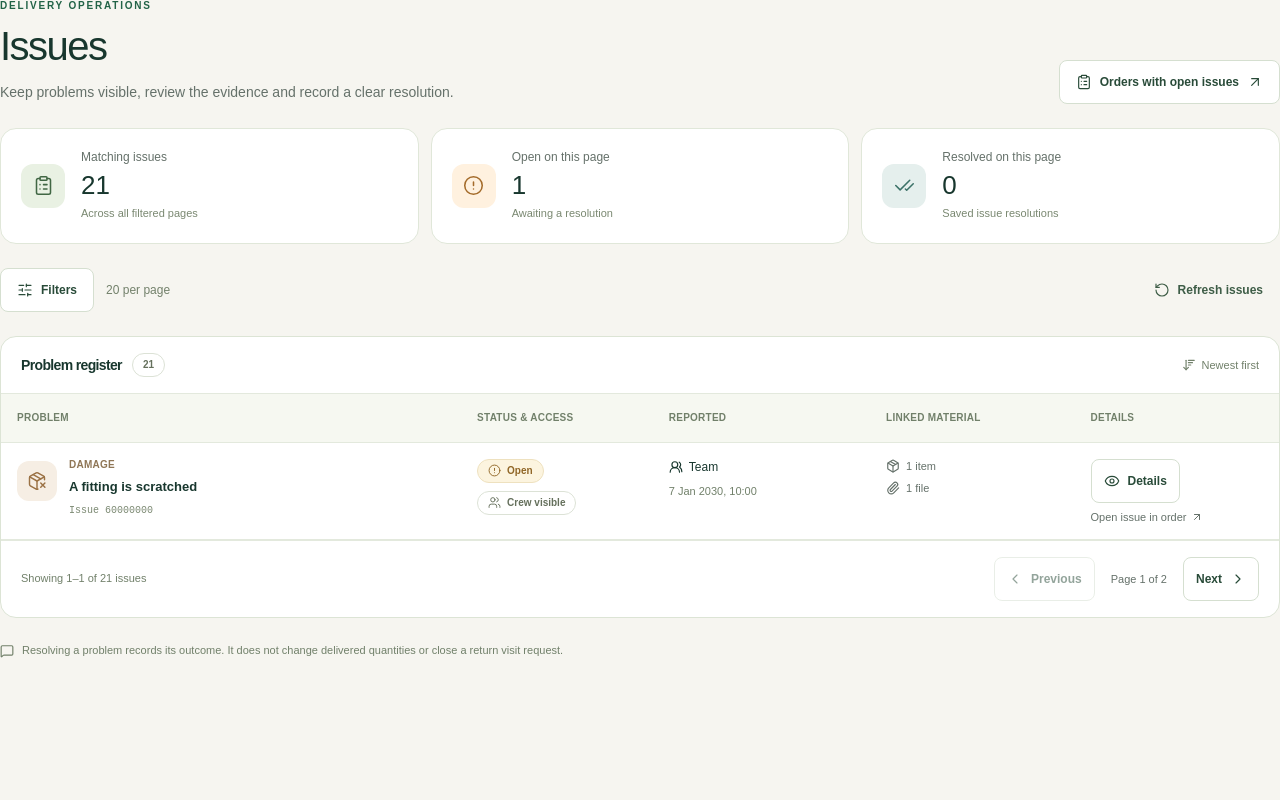
Test case: Backoffice issue directory › opens canonical details only on demand and restores focus on close
The image size is (1280, 800).
Click the button "A fitting is scratched" at coordinates (133, 486), box [69, 476, 197, 497]
(page scrolled)
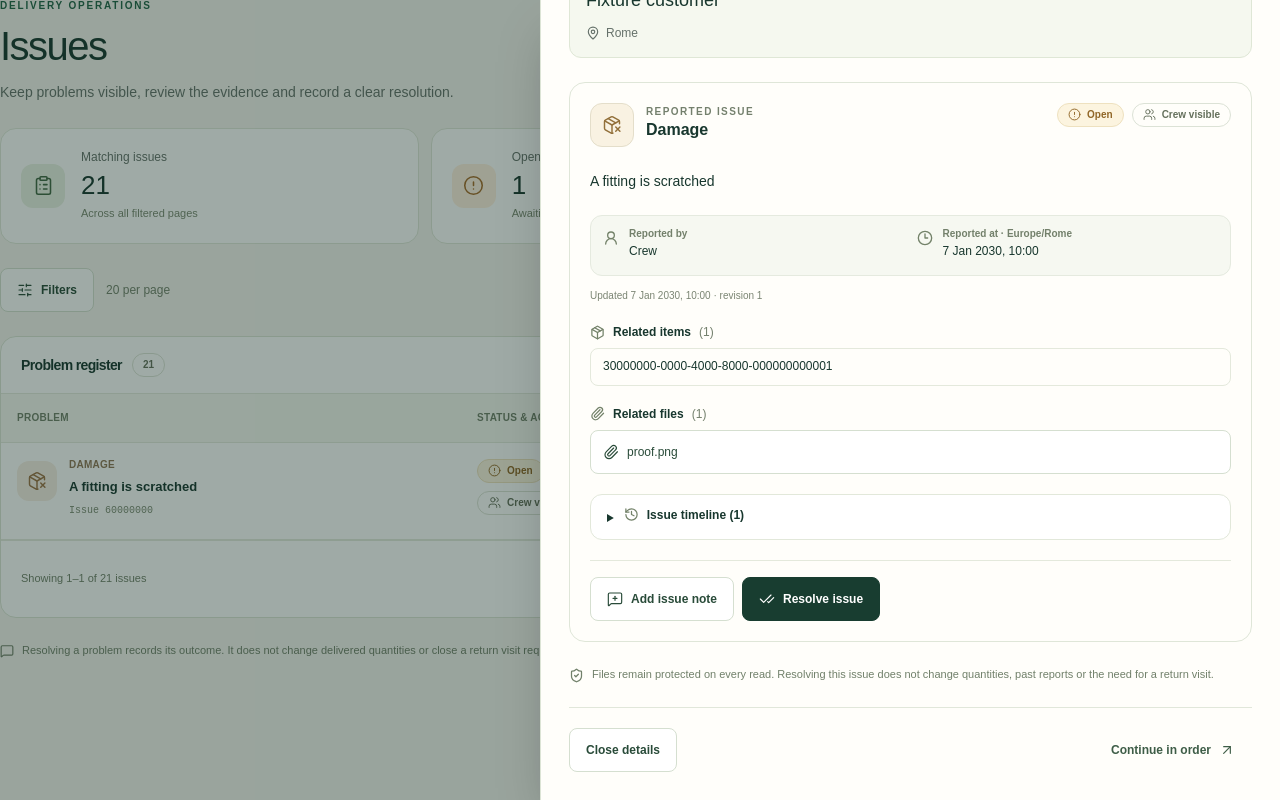
Click the button "Close details" at coordinates (623, 750), box [569, 728, 677, 772]
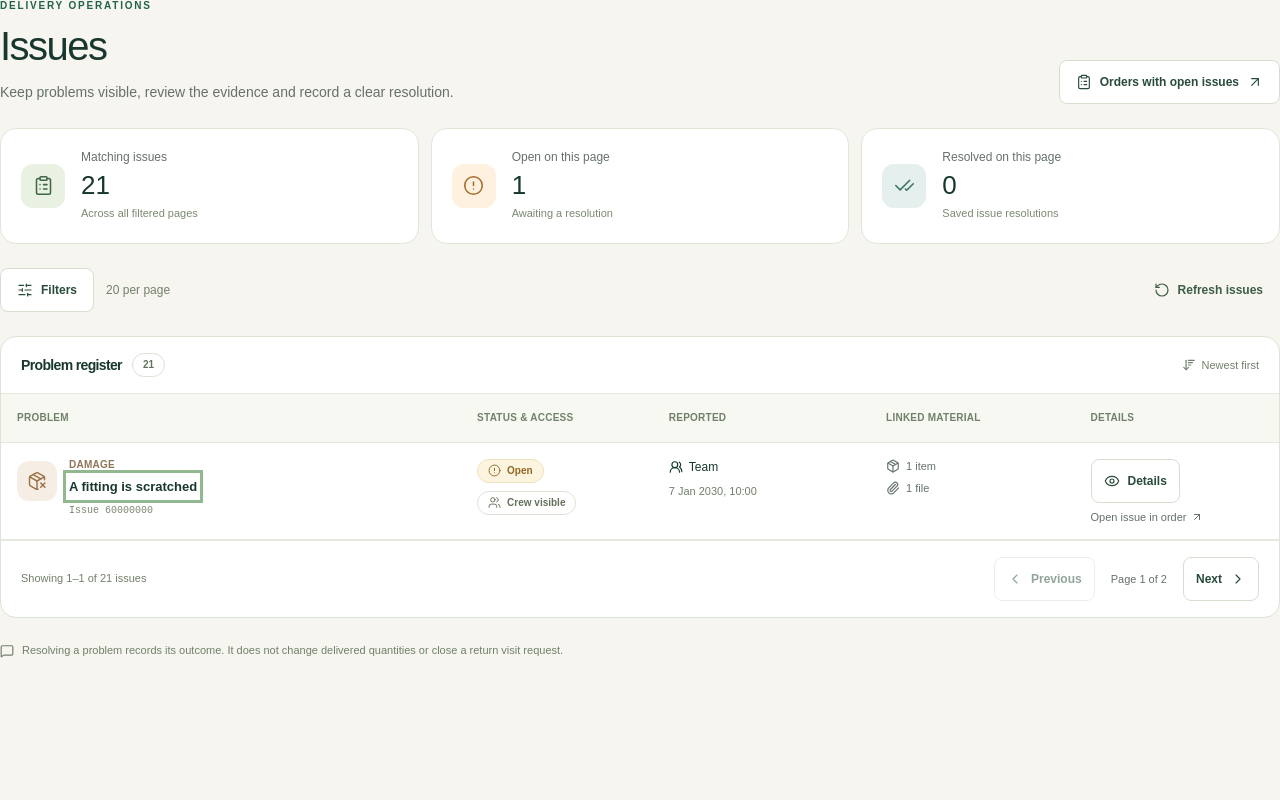
expect the dialog is gone: met
